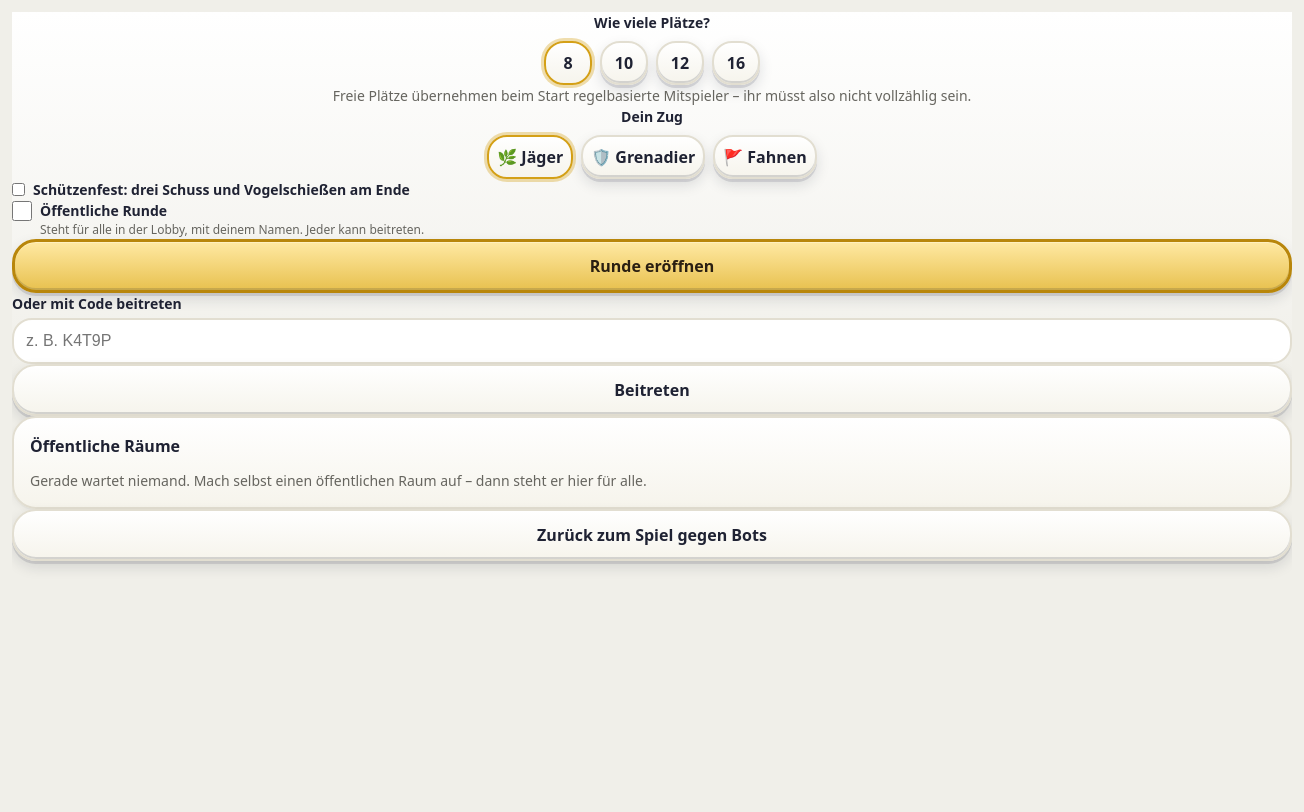
Test case: Schützenrunde online – Oberfläche › verrät die Rollen der lebenden Mitspieler nicht
Click the button "Runde eröffnen": (652, 266) [12,239,1292,293]
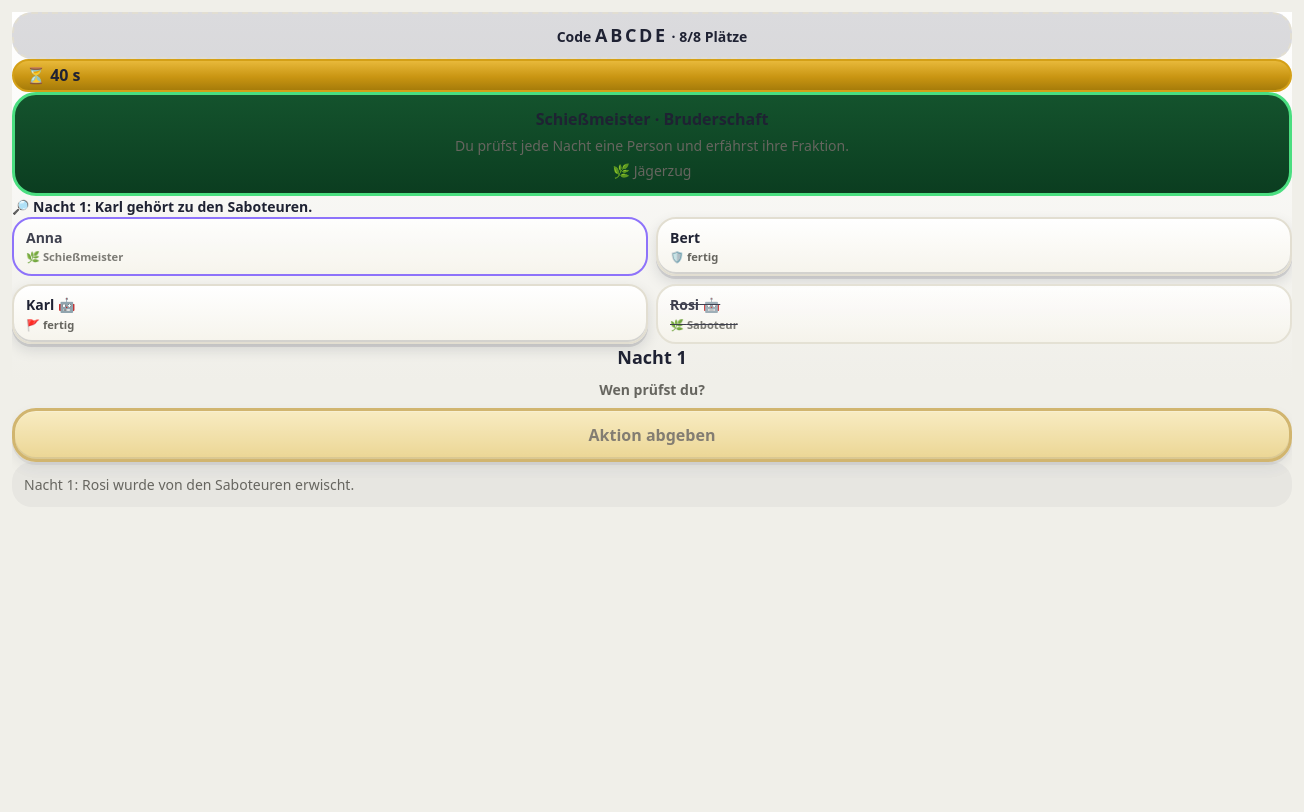
Result: the text "Schießmeister · Bruderschaft" is shown at [536,108,768,130]
Result: the text "🔎 Nacht 1: Karl gehört zu den Saboteuren." is shown at [12,197,312,216]
